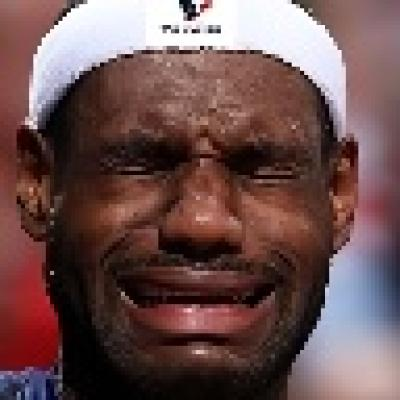sad: (42, 27, 329, 376)
